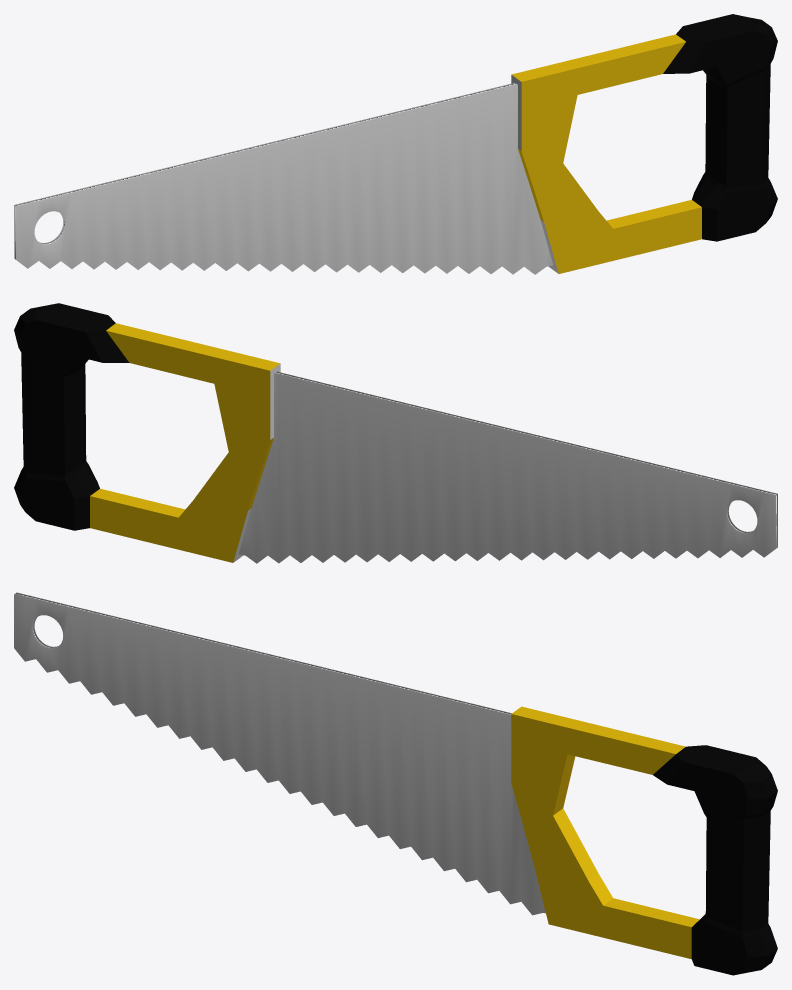
Rendered from Saw.fbx.
3 views of the same model, one above another, from view 1: azimuth 30°, elevation 25°; view 2: azimuth 150°, elevation 25°; view 3: azimuth 330°, elevation 25° (orthographic).
Visible parts, largest first — view 1: Cube.004; view 2: Cube.004; view 3: Cube.004.
Boxes of the visible parts, <box> form: Cube.004: <box>14,14,777,274</box>; Cube.004: <box>14,303,777,563</box>; Cube.004: <box>14,592,777,975</box>.
Size of the model in its own units: 691 by 176 by 36.35.
